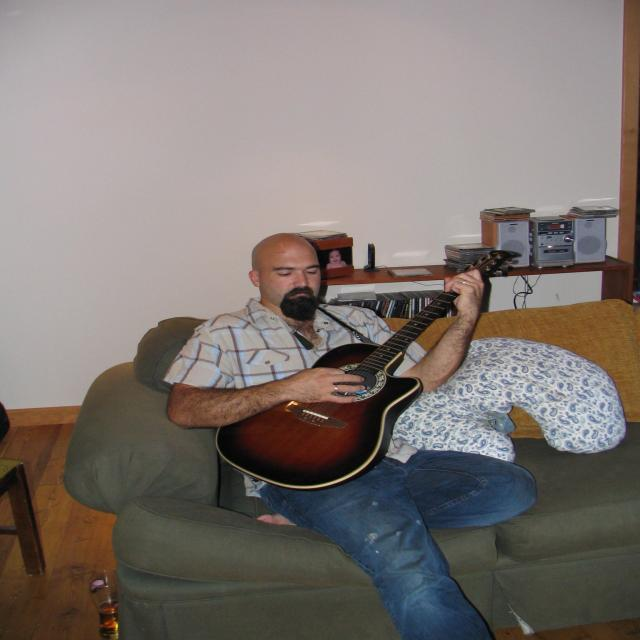guitar: (212, 248, 521, 494)
